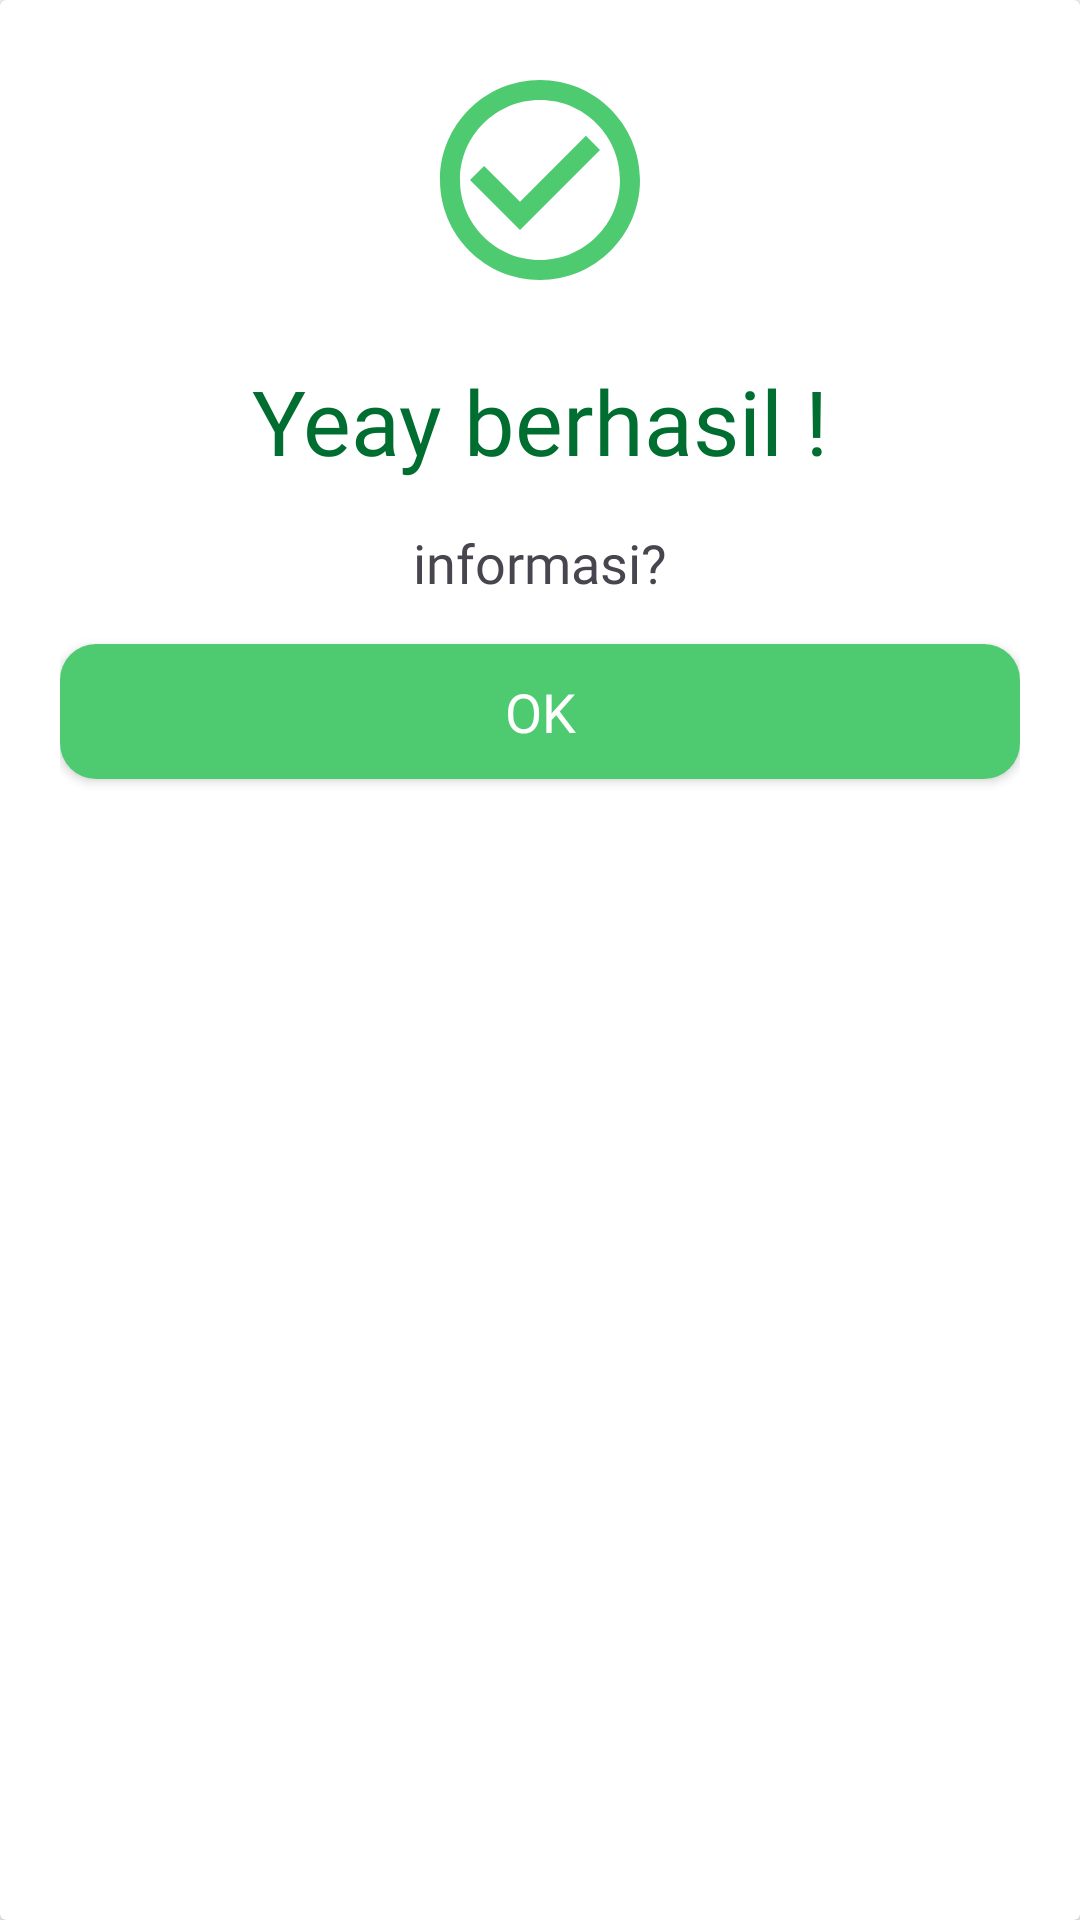

Icon bounding boxes for this 1080px×1920px phone screenshot, format [x1=x1, y1=y1, x2=x2, y2=y2]:
check: [x1=440, y1=80, x2=640, y2=280]
